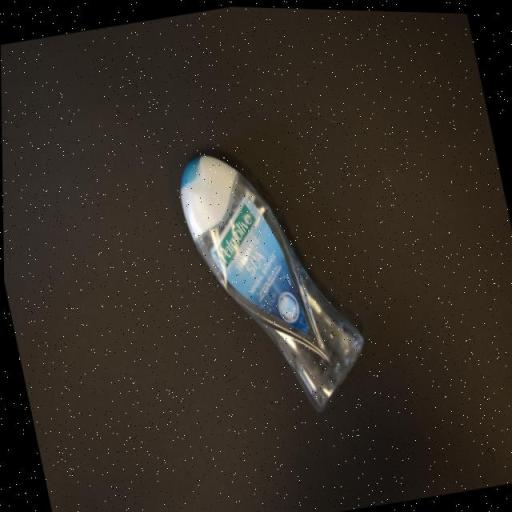plastic: (168, 126, 379, 430)
